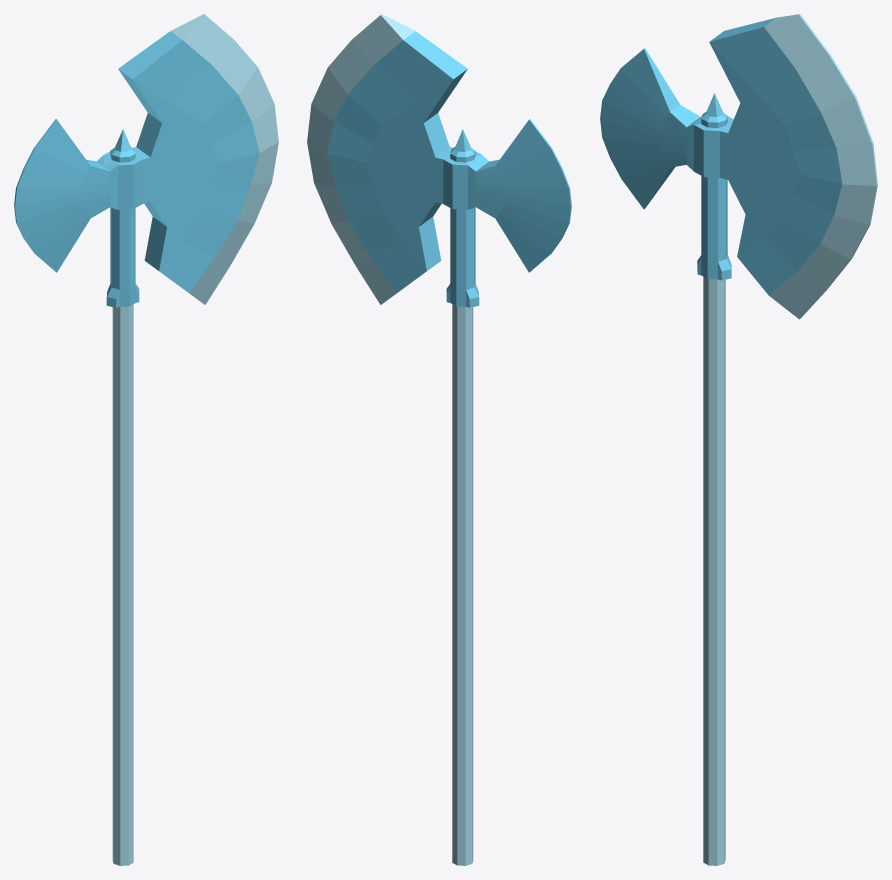
File: two_handed_axe_3.fbx
The picture shows the model from 3 angles, left to right: view 1: azimuth 30°, elevation 25°; view 2: azimuth 150°, elevation 25°; view 3: azimuth 330°, elevation 25°; orthographic projection. The views are drawn at different scales.
Parts seen in each view (by area): view 1: two_handed_axe_3; view 2: two_handed_axe_3; view 3: two_handed_axe_3.
Boxes of the visible parts, x1,y1,x2,y2 form: two_handed_axe_3: (14,14,278,865); two_handed_axe_3: (307,14,571,865); two_handed_axe_3: (600,14,877,865).
Size of the model in its own units: 0.6607 by 1.98 by 0.0884.
1 material, 1 textured.
